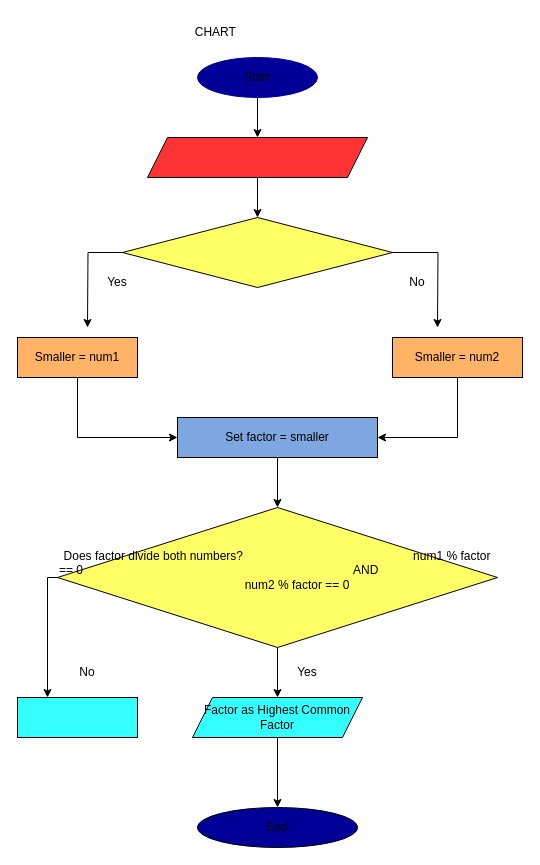
Some shapes in this 540 by 865 pixel diagram are drawn without their labels. The shapes that lost their labels are listed below. From the top down, each one's box as (x1, y1, x2, y2) in pixels, then its label:
(146, 136, 368, 178): first number (num1) second number (num2)
(122, 216, 392, 288): Is num1 < num2?
(16, 696, 138, 738): factor = factor - 1
